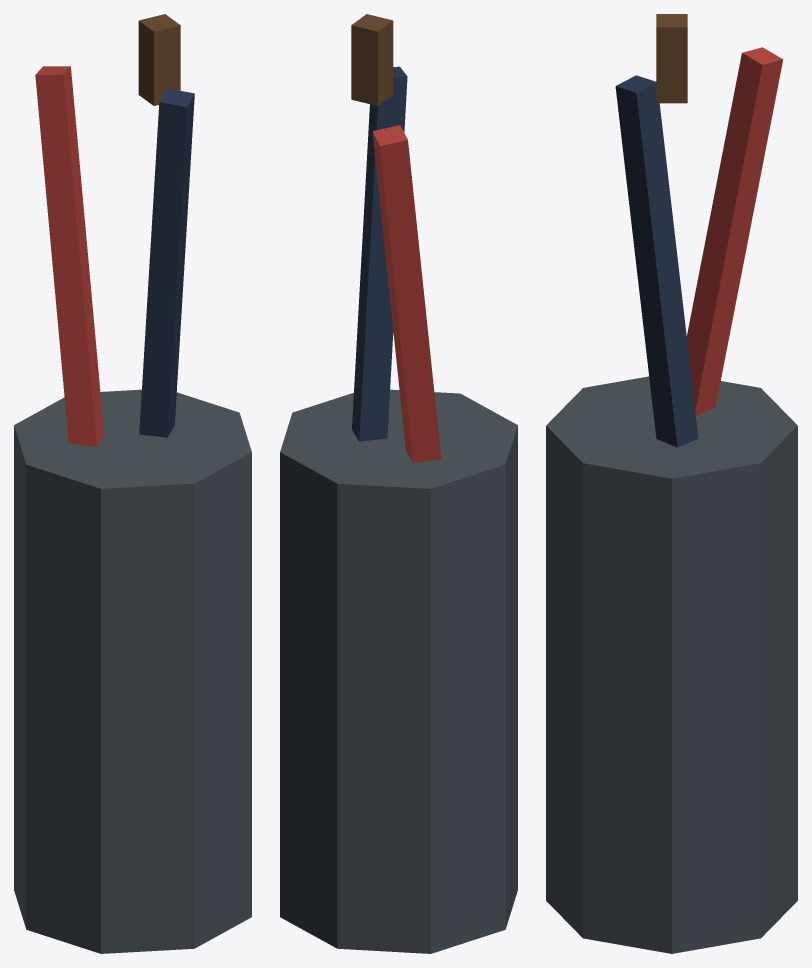
The model's file is GD_UmbrellaStand_01.glb.
3 views of the same model, side by side, from view 1: azimuth 30°, elevation 25°; view 2: azimuth 150°, elevation 25°; view 3: azimuth 270°, elevation 25° (orthographic). The views are drawn at different scales.
Visible parts, largest first — view 1: GD_UmbrellaStand_01; view 2: GD_UmbrellaStand_01; view 3: GD_UmbrellaStand_01.
Part boxes in pixels (x1=…): GD_UmbrellaStand_01: x1=14, y1=14, x2=251, y2=953; GD_UmbrellaStand_01: x1=280, y1=14, x2=517, y2=953; GD_UmbrellaStand_01: x1=546, y1=14, x2=797, y2=953.
Size of the model in its own units: 0.24 by 0.94 by 0.24.
Materials: 1 (1 with a texture image).
